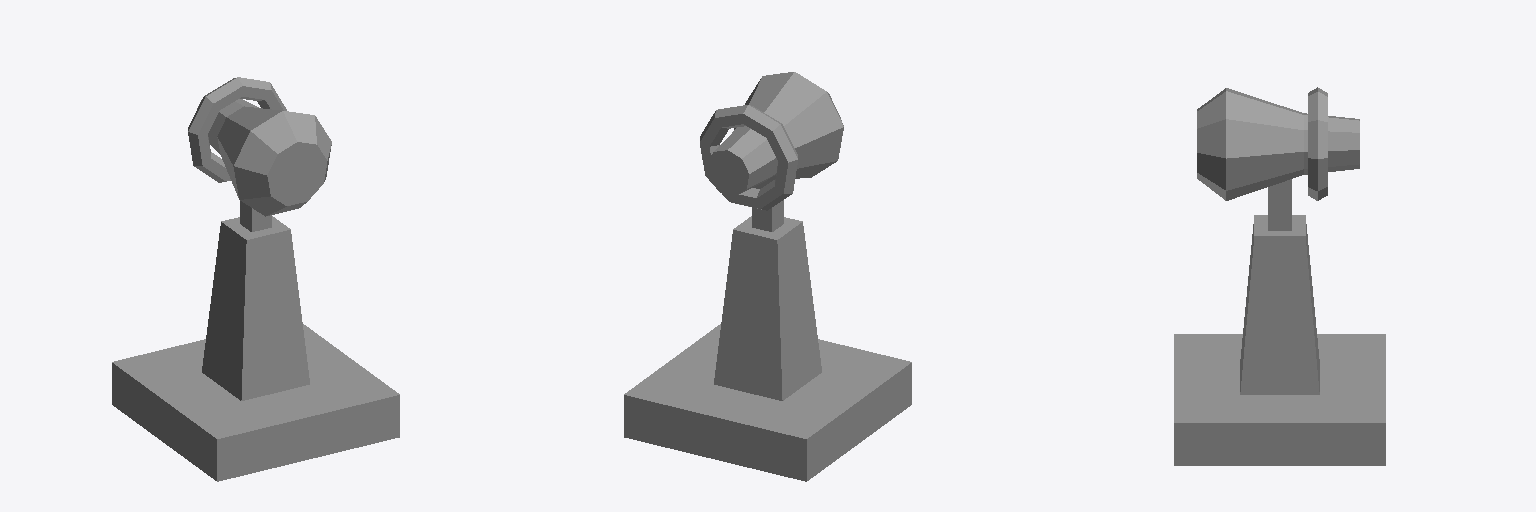
File: reflector.obj
3 views of the same model, side by side, from view 1: azimuth 30°, elevation 25°; view 2: azimuth 150°, elevation 25°; view 3: azimuth 270°, elevation 25° (orthographic).
Parts seen in each view (by area): view 1: Base, EnergyBlaster, Ring, Axle; view 2: Base, EnergyBlaster, Ring, Axle; view 3: Base, EnergyBlaster, Ring, Axle.
Boxes of the visible parts, x1,y1,x2,y2 form: Base: [112, 216, 399, 481]; EnergyBlaster: [197, 99, 331, 216]; Ring: [188, 77, 286, 182]; Axle: [240, 201, 271, 231]; Base: [624, 216, 911, 481]; EnergyBlaster: [706, 72, 843, 195]; Ring: [700, 105, 797, 210]; Axle: [752, 181, 783, 231]; Base: [1174, 215, 1385, 465]; EnergyBlaster: [1197, 88, 1359, 200]; Ring: [1308, 87, 1327, 200]; Axle: [1268, 179, 1291, 230].
Bounding box in the file's own units: 0.7413 × 1.28 × 0.7413.